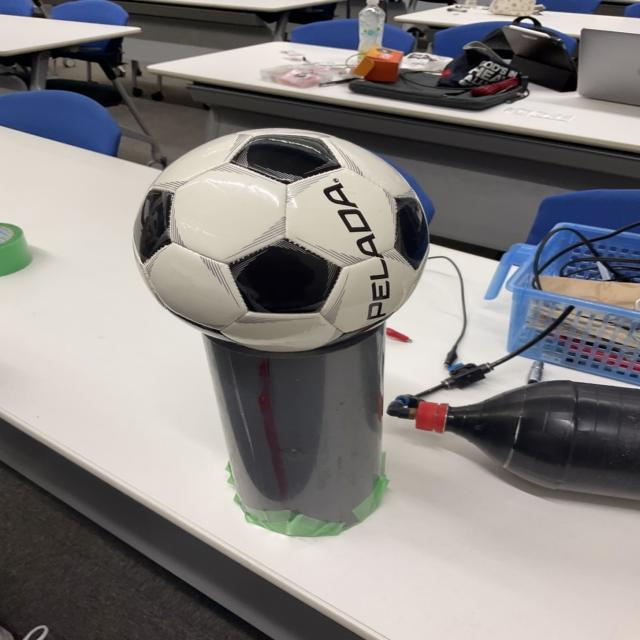ball: (134, 126, 430, 353)
